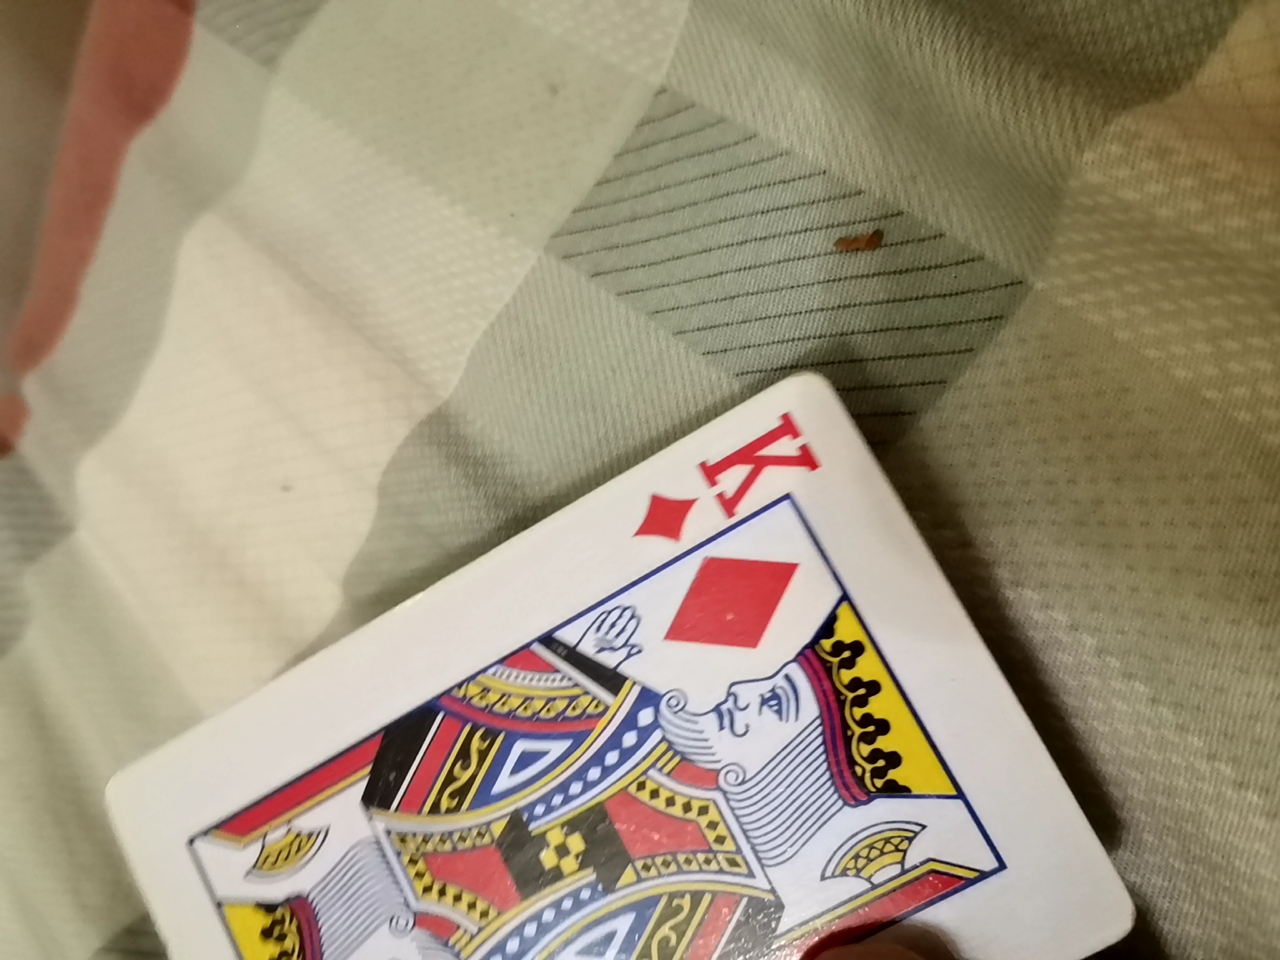fk k: (66, 369, 1157, 952)
